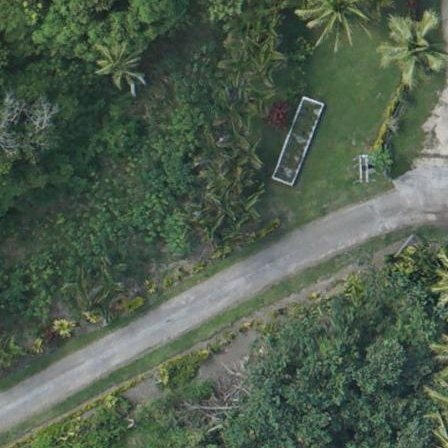palm_tree: (383, 12, 448, 83), (95, 40, 149, 94), (431, 252, 448, 319)
